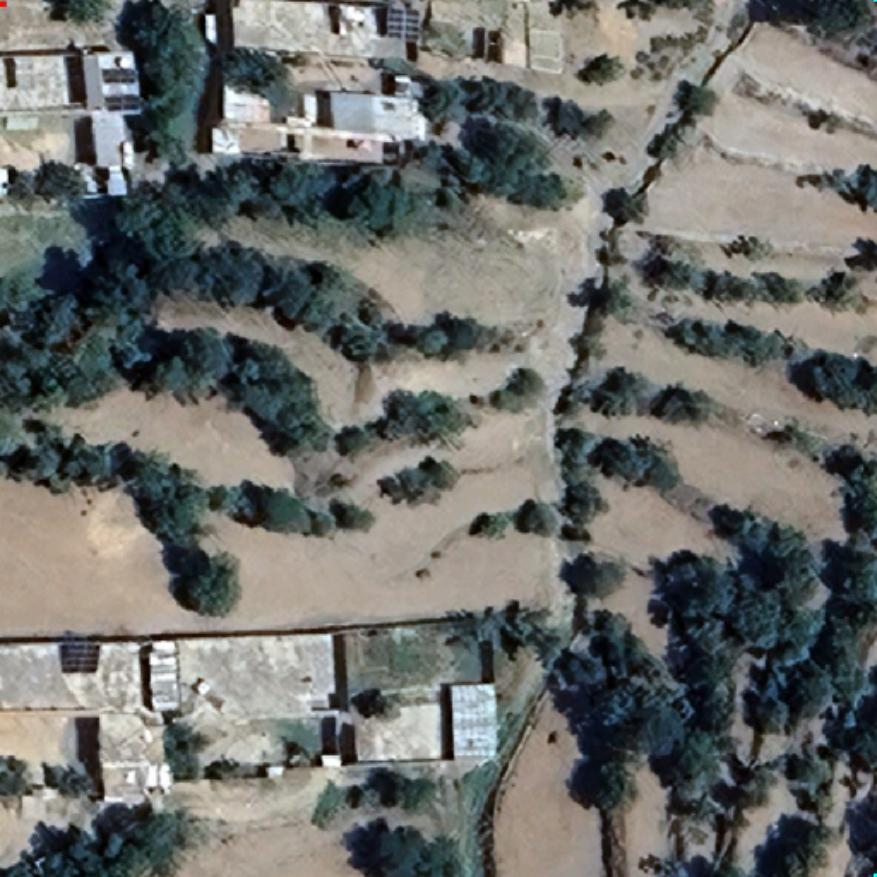Solarpanel: (56, 634, 105, 676), (385, 6, 423, 42), (102, 90, 144, 114), (97, 66, 142, 84)
